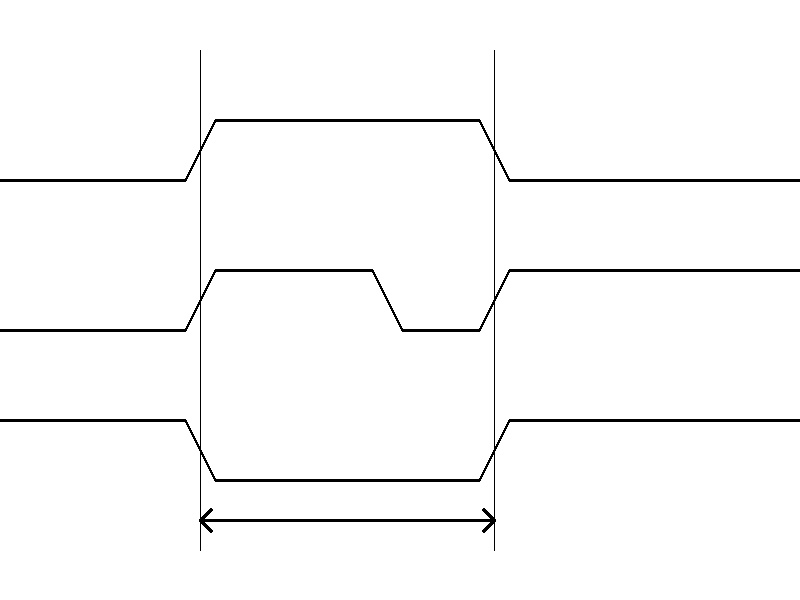double_arrow: (200, 505, 494, 535)
